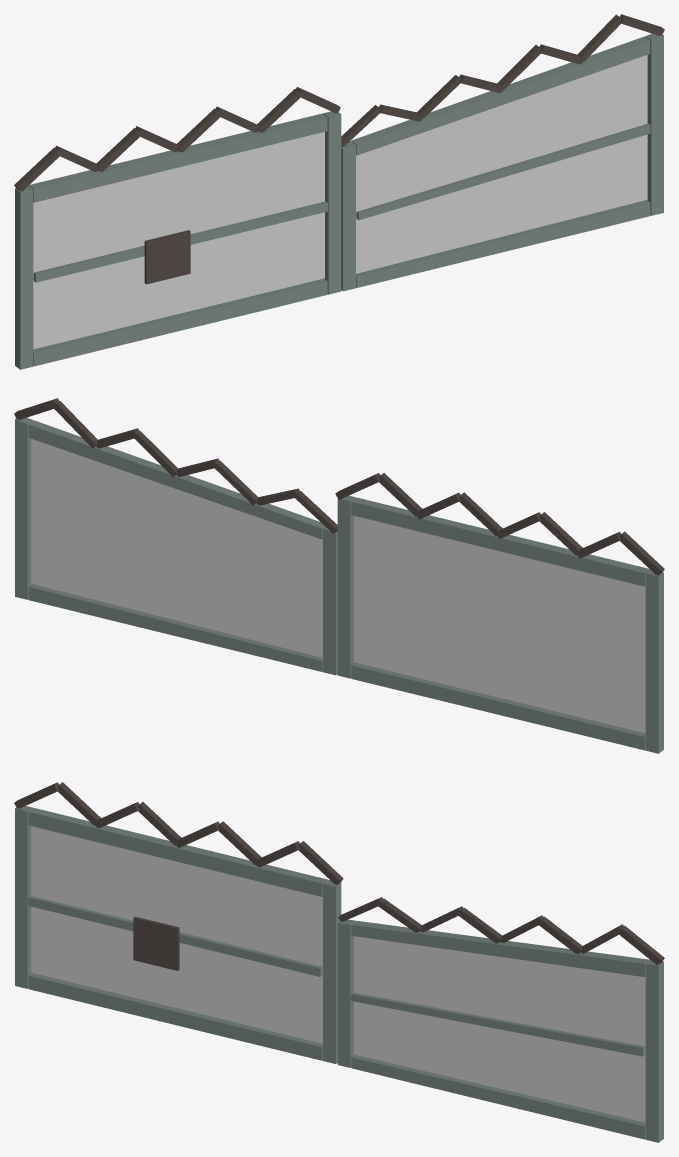
File: SM_PuertaVehiculos_v3_MallaEspino_e1_Danado_LOD1.fbx
The picture shows the model from 3 angles, top to bottom: view 1: azimuth 30°, elevation 25°; view 2: azimuth 150°, elevation 25°; view 3: azimuth 330°, elevation 25°; orthographic projection.
Parts seen in each view (by area): view 1: Hoja_O, Hoja_E; view 2: Hoja_O, Hoja_E; view 3: Hoja_O, Hoja_E.
Part boxes in pixels (x1=…): Hoja_O: x1=14, y1=87, x2=341, y2=369; Hoja_E: x1=341, y1=14, x2=664, y2=291; Hoja_O: x1=335, y1=473, x2=664, y2=753; Hoja_E: x1=14, y1=398, x2=337, y2=675; Hoja_O: x1=14, y1=782, x2=343, y2=1063; Hoja_E: x1=337, y1=897, x2=664, y2=1142.
Size of what is drawn, in the model's own units: 8.02 by 2.49 by 0.21.
